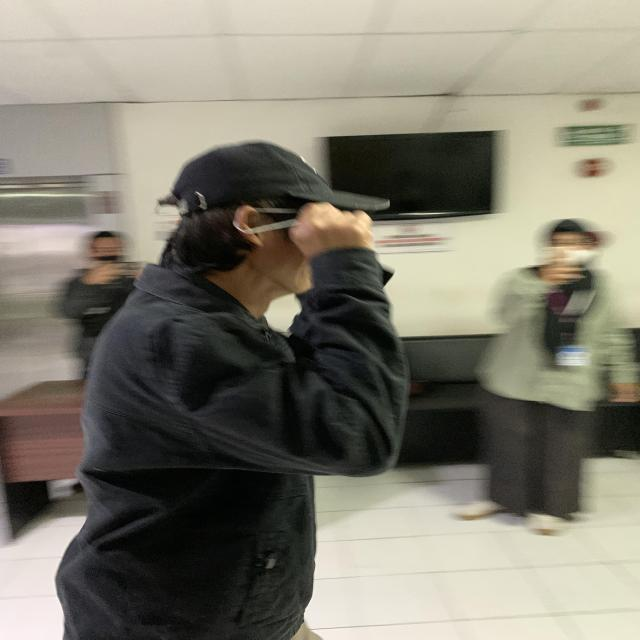hairnet: (153, 138, 366, 302)
